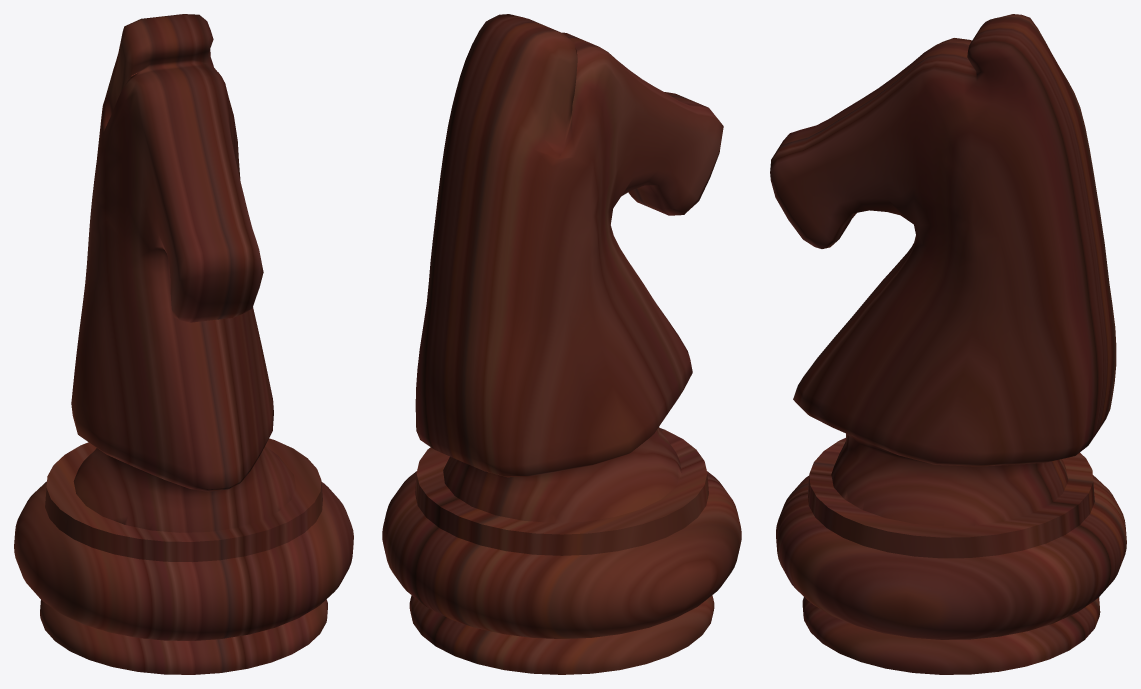
Rendered from BlackKnight.FBX.
3 views of the same model, side by side, from view 1: azimuth 30°, elevation 25°; view 2: azimuth 150°, elevation 25°; view 3: azimuth 270°, elevation 25° (orthographic). The views are drawn at different scales.
Parts seen in each view (by area): view 1: KnightB1; view 2: KnightB1; view 3: KnightB1.
Boxes of the visible parts, x1=… form: KnightB1: x1=14, y1=14, x2=353, y2=674; KnightB1: x1=382, y1=14, x2=741, y2=674; KnightB1: x1=770, y1=14, x2=1126, y2=674.
Size of the model in its own units: 0.1804 by 0.1833 by 0.335.
1 material, 1 textured.
